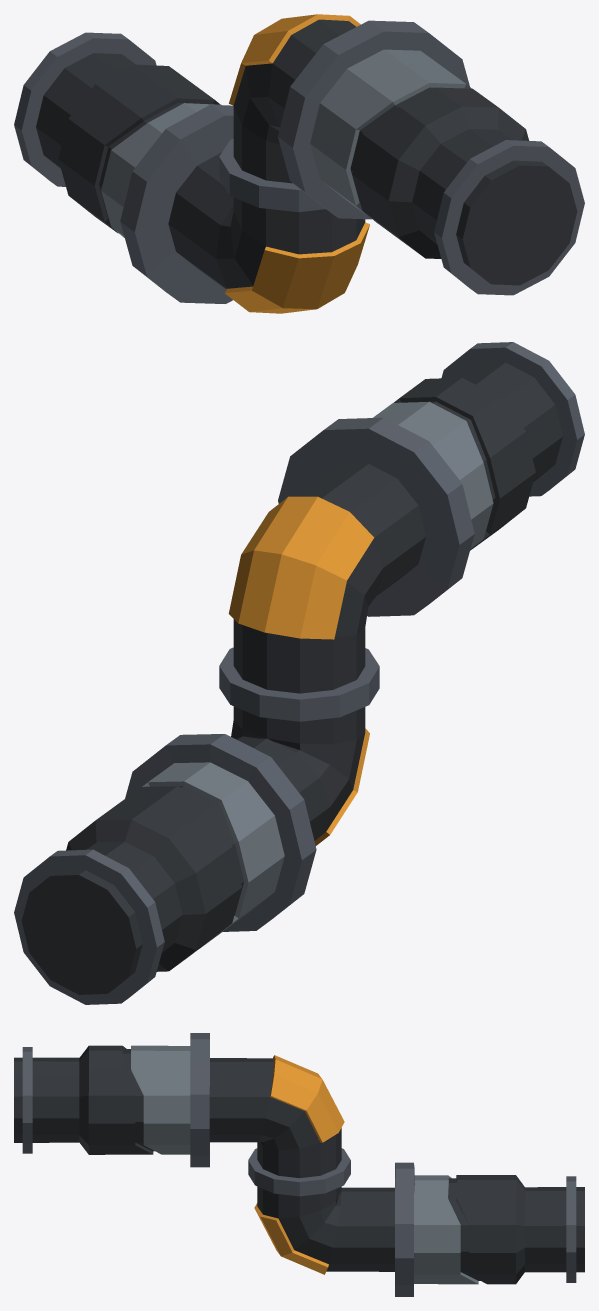
Rendered from SM_Z-shaped_water_pipe.glb.
The picture shows the model from 3 angles, top to bottom: view 1: azimuth 30°, elevation 25°; view 2: azimuth 150°, elevation 25°; view 3: azimuth 270°, elevation 25°; orthographic projection. The views are drawn at different scales.
Visible parts, largest first — view 1: SM_Z-shaped_water_pipe; view 2: SM_Z-shaped_water_pipe; view 3: SM_Z-shaped_water_pipe.
Boxes of the visible parts, box(x1,y1,x2,y2) form: SM_Z-shaped_water_pipe: box(14, 14, 584, 313); SM_Z-shaped_water_pipe: box(14, 342, 584, 1004); SM_Z-shaped_water_pipe: box(14, 1033, 584, 1296).
Bounding box in the file's own units: 0.9511 × 1.94 × 4.
Materials: 1 (1 with a texture image).
